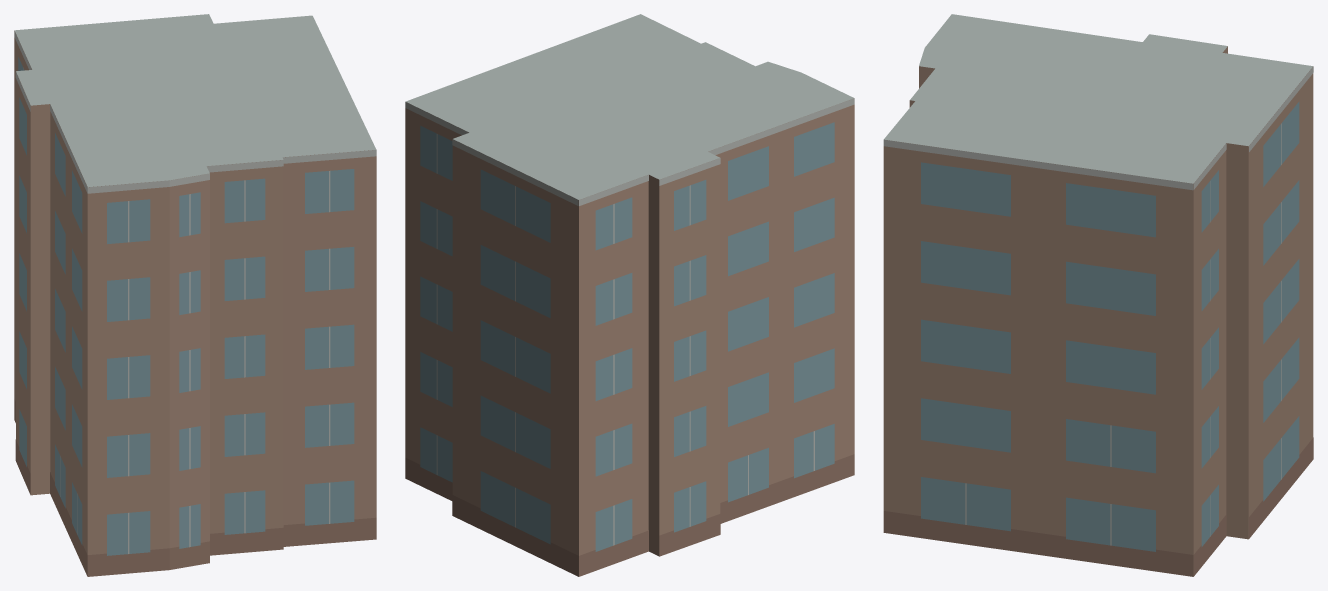
File: survey-upis-33015546.glb
3 views of the same model, side by side, from view 1: azimuth 30°, elevation 25°; view 2: azimuth 150°, elevation 25°; view 3: azimuth 270°, elevation 25° (orthographic). The views are drawn at different scales.
Parts seen in each view (by area): view 1: survey-upis-33015546.tmp; view 2: survey-upis-33015546.tmp; view 3: survey-upis-33015546.tmp.
Boxes of the visible parts, bbox=[...] form: survey-upis-33015546.tmp: bbox=[14, 14, 376, 576]; survey-upis-33015546.tmp: bbox=[405, 14, 854, 576]; survey-upis-33015546.tmp: bbox=[883, 14, 1313, 576].
Bounding box in the file's own units: 13.43 × 14.5 × 14.38.
